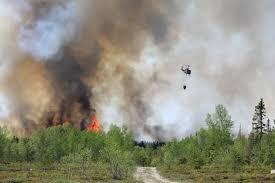fire: (81, 111, 105, 133)
